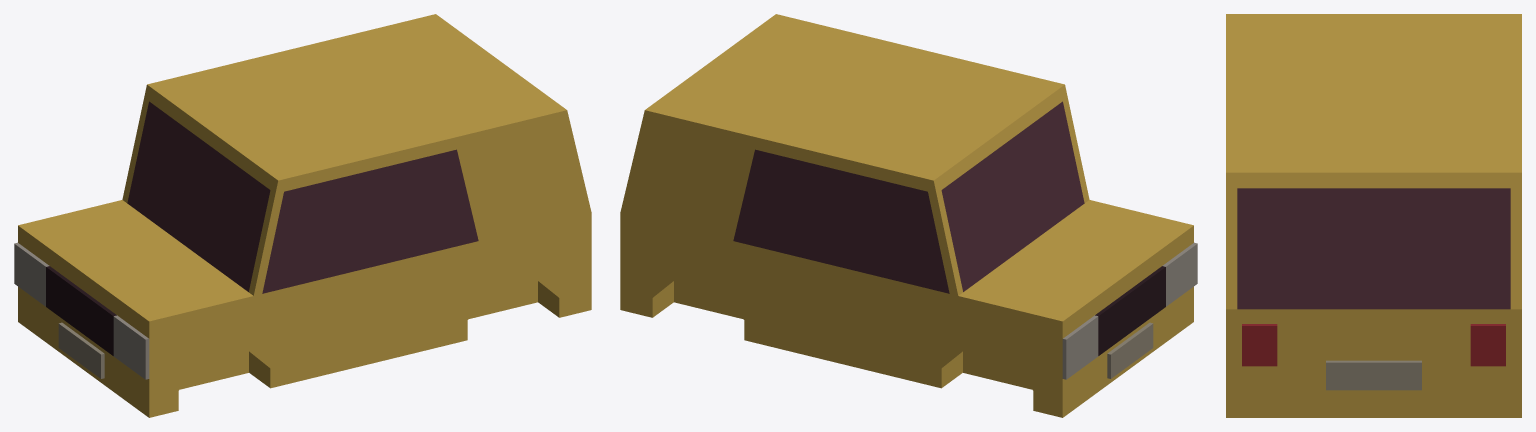
The model's file is Suv_Yellow.fbx.
The picture shows the model from 3 angles, left to right: view 1: azimuth 30°, elevation 25°; view 2: azimuth 150°, elevation 25°; view 3: azimuth 270°, elevation 25°; orthographic projection. The views are drawn at different scales.
Visible parts, largest first — view 1: Suv_Yellow, Suv_Lights; view 2: Suv_Yellow, Suv_Lights; view 3: Suv_Yellow, Suv_Lights.
Part boxes in pixels (x1,y1,x2,y2): Suv_Yellow: (18,14,591,417); Suv_Lights: (14,242,149,379); Suv_Yellow: (620,14,1193,417); Suv_Lights: (1062,242,1197,379); Suv_Yellow: (1226,14,1521,417); Suv_Lights: (1242,324,1505,366).
Size of the model in its own units: 3.66 by 1.6 by 1.85.
